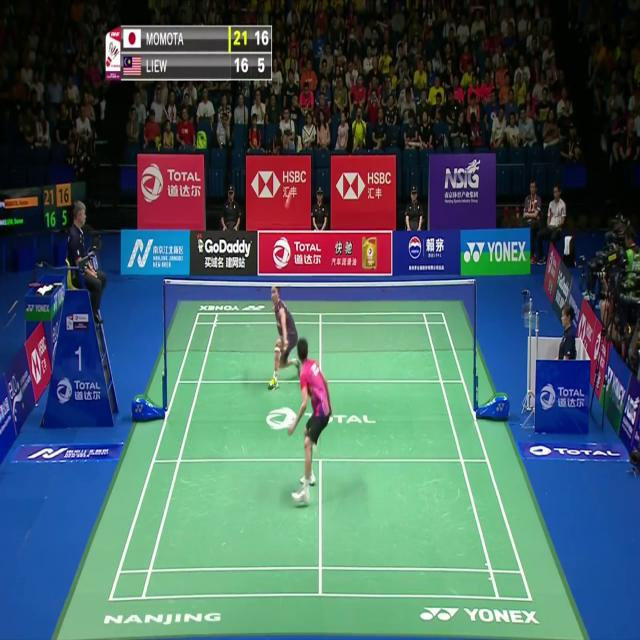Shuttlecock: (286, 191, 292, 202)
